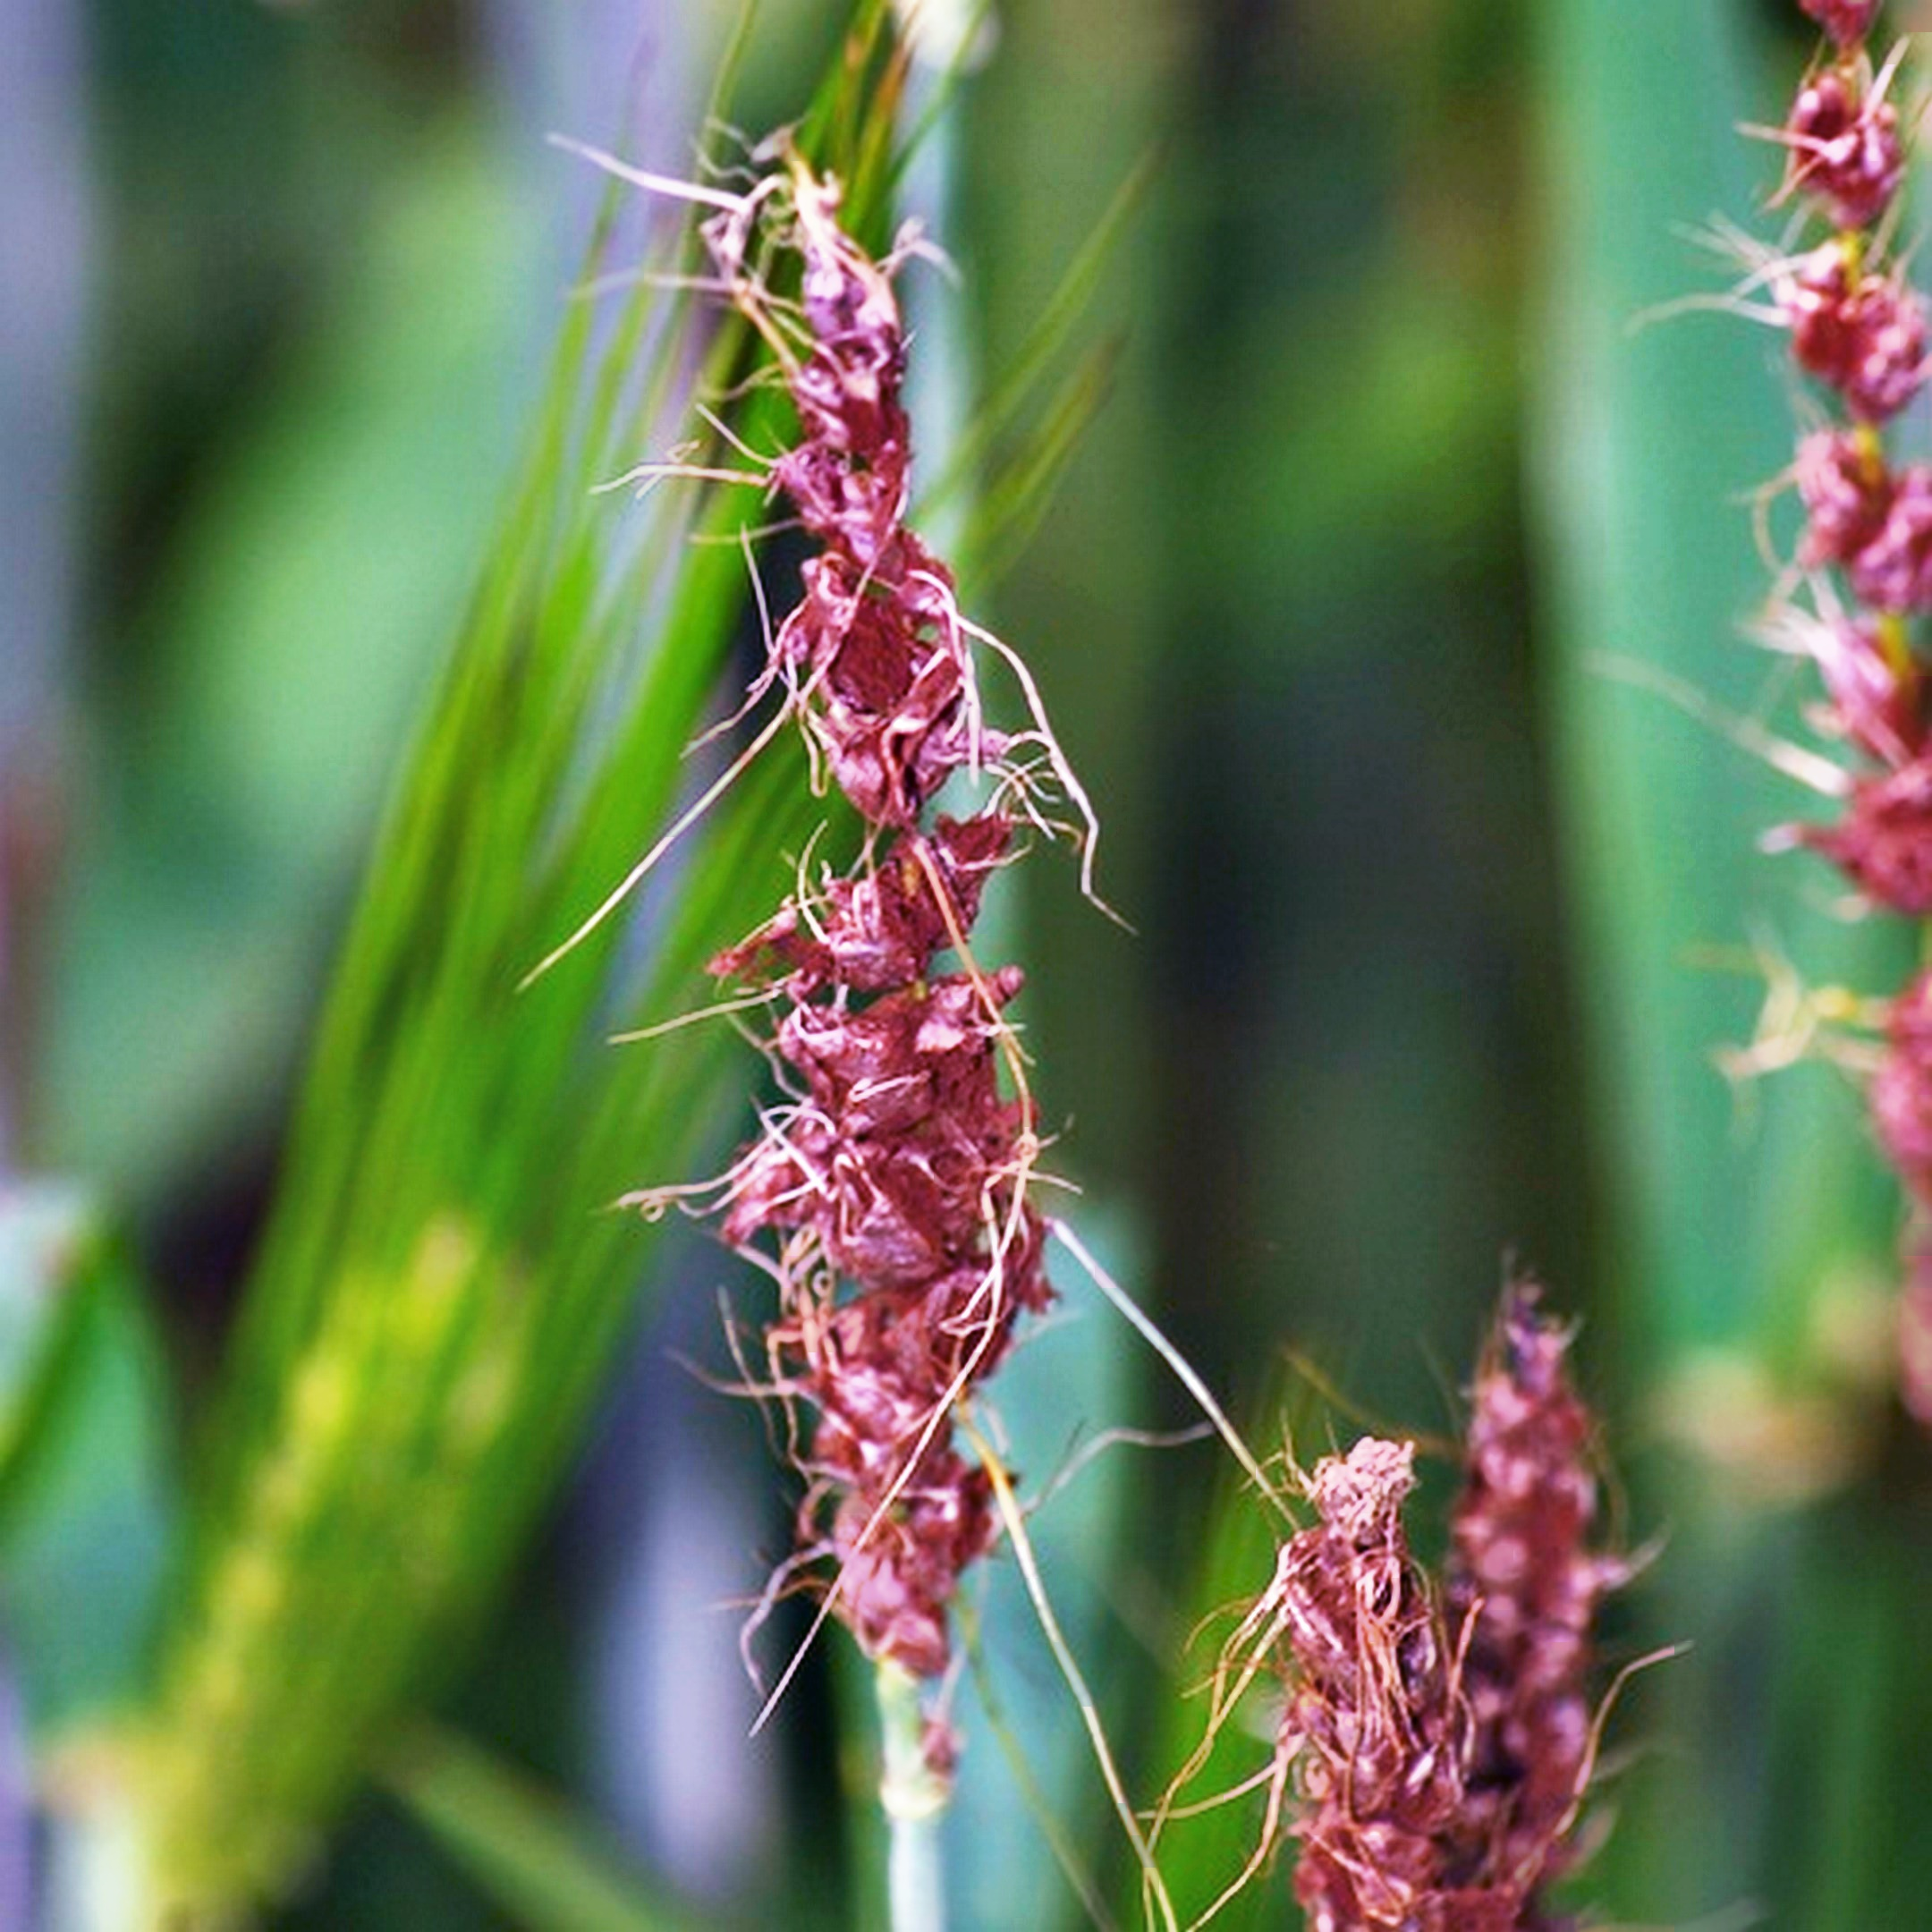Wheat Loose Smut: (717, 202, 1079, 1690), (1240, 1421, 1472, 1920)
